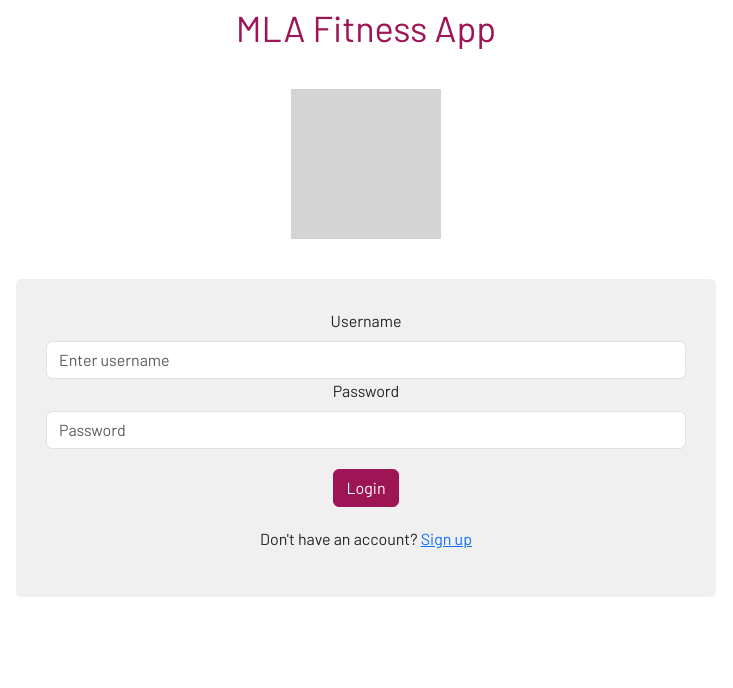
it: sign up › should not register a user that already exists
Click the link "Sign up". click: click(446, 539)
box: [421,529,472,548]
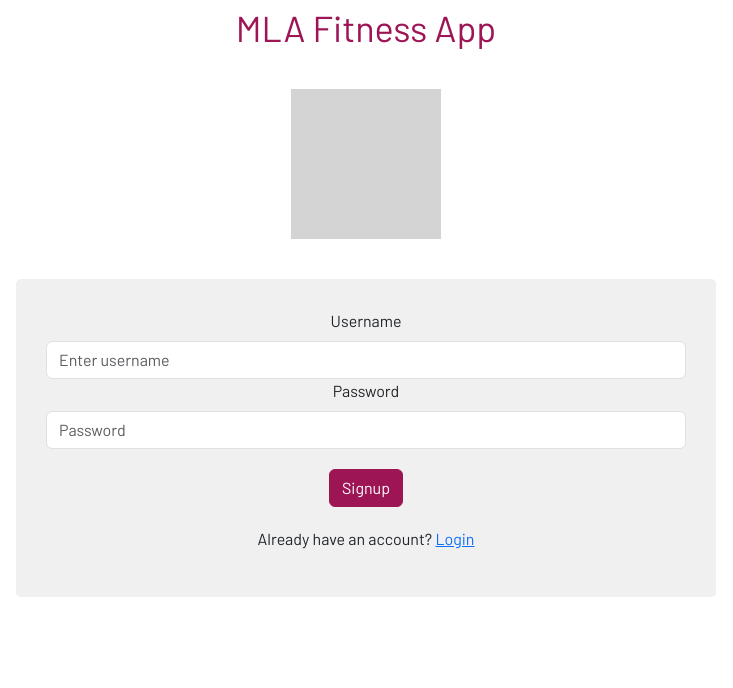
expect the text "Already have an account?" is shown: met, box [258,529,435,548]
Type "new_cfg_student" into the field labelled "Username". click: (366, 360)
box: [46,341,686,379]
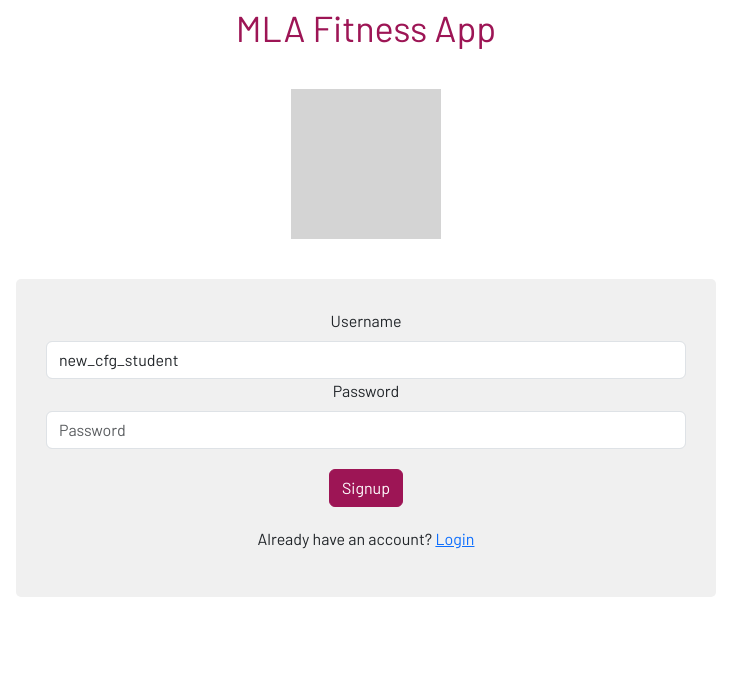
Type "12345678" into the password field labelled "Password". click: (366, 430)
box: [46,411,686,449]
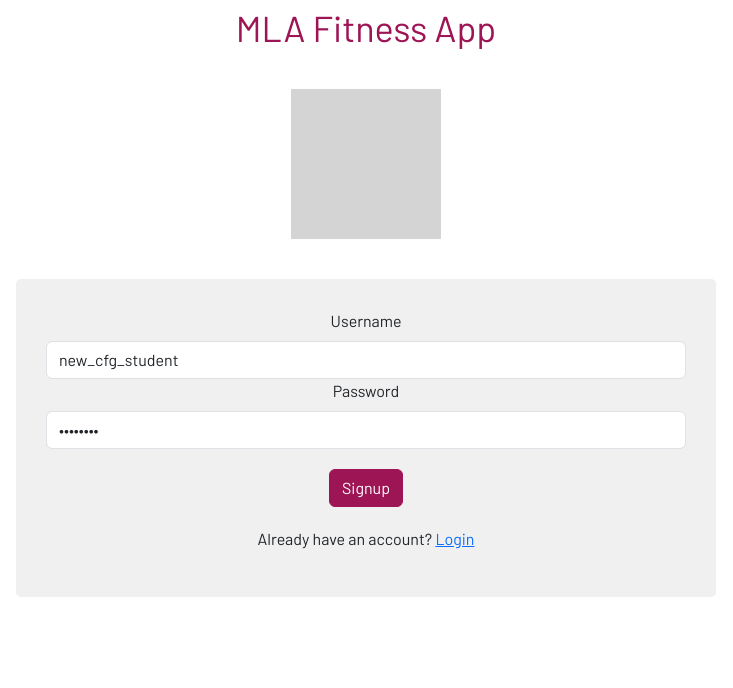
Click the button "Signup". click: click(366, 488)
box: [329,469,403,507]
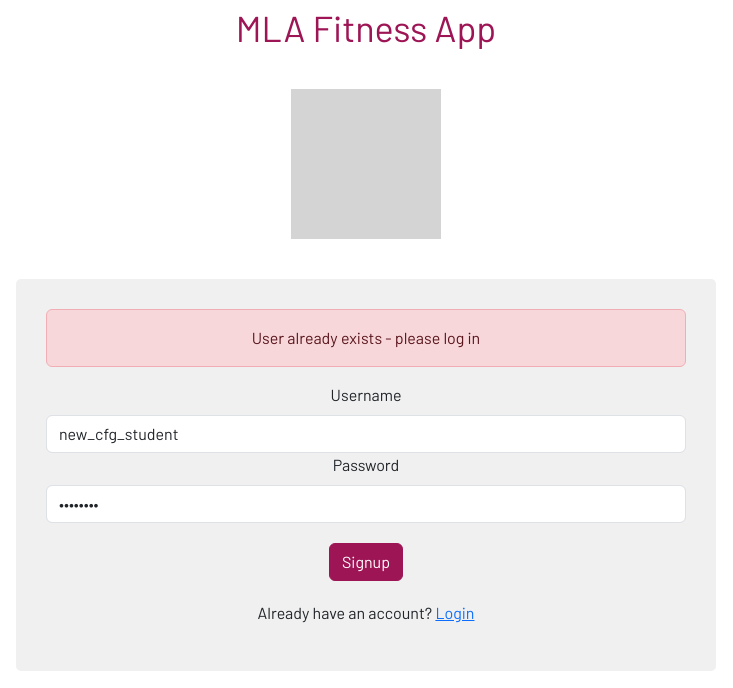
expect the text "User already exists - please log in" is shown: met, box [46,309,686,367]
